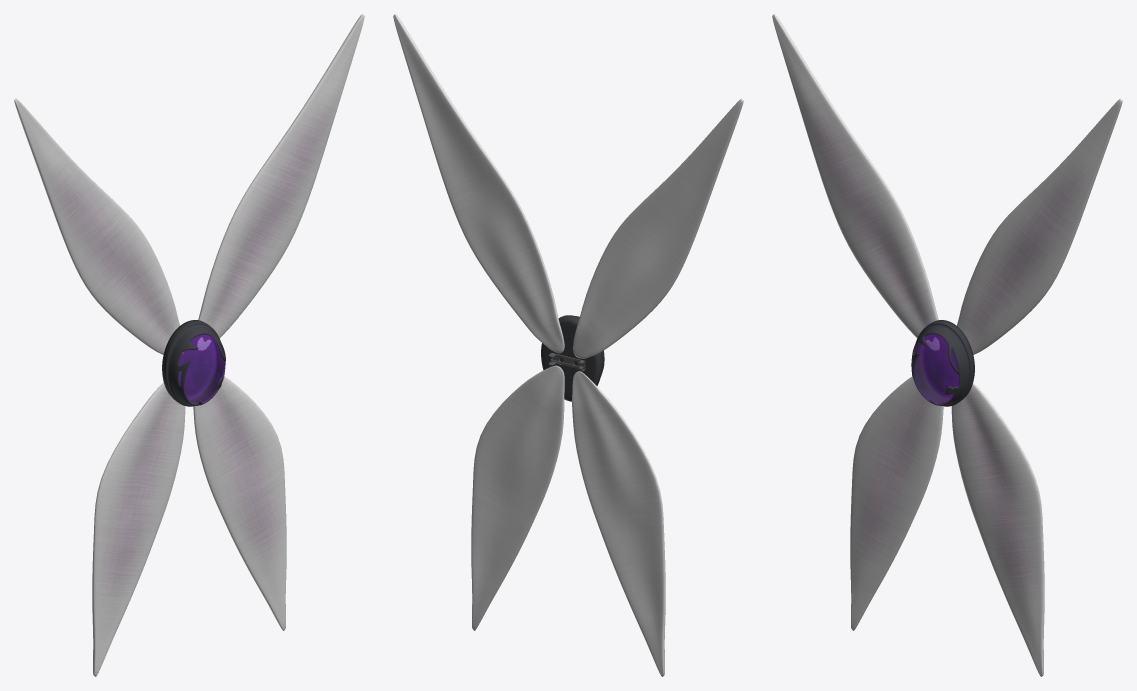
The model's file is miraculous_ladybug_-_butterfly_miraculous.glb.
The picture shows the model from 3 angles, left to right: view 1: azimuth 30°, elevation 25°; view 2: azimuth 150°, elevation 25°; view 3: azimuth 330°, elevation 25°; orthographic projection.
Parts seen in each view (by area): view 1: Object_5, Object_4, Object_3; view 2: Object_5, Object_4; view 3: Object_5, Object_4, Object_3.
Part boxes in pixels (x1,y1,x2,y2): Object_5: [14, 14, 364, 676]; Object_4: [162, 320, 225, 406]; Object_3: [178, 334, 224, 404]; Object_5: [393, 14, 743, 676]; Object_4: [541, 315, 604, 401]; Object_5: [772, 14, 1122, 676]; Object_4: [911, 320, 974, 406]; Object_3: [912, 334, 959, 404].
Bounding box in the file's own units: 15.99 × 26.11 × 1.6.
4 materials, 4 textured.
